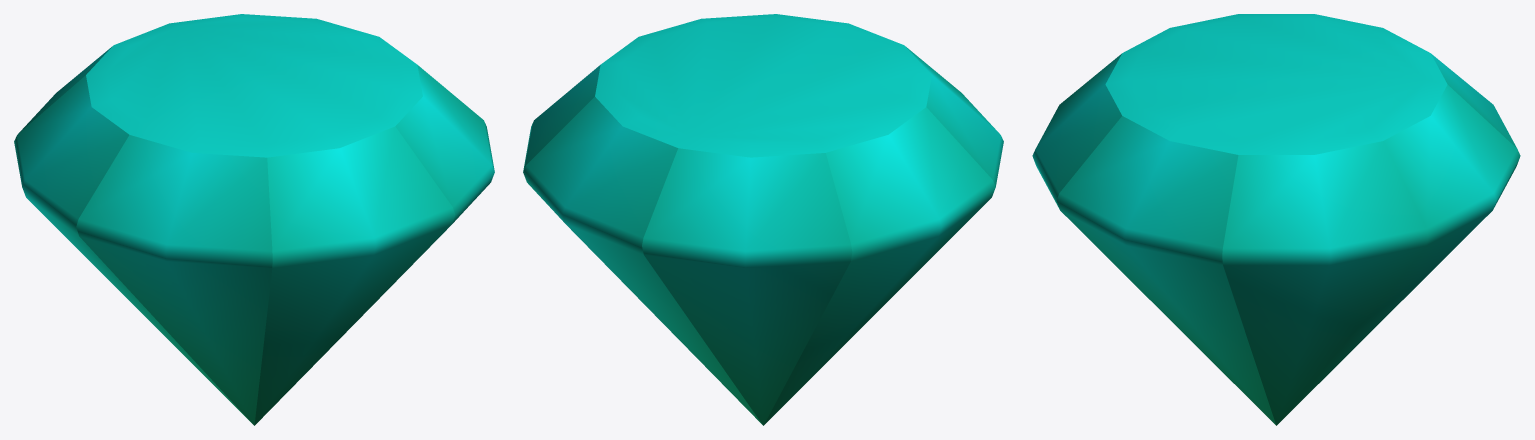
The model's file is Diamond_V1_0.fbx.
The picture shows the model from 3 angles, left to right: view 1: azimuth 30°, elevation 25°; view 2: azimuth 150°, elevation 25°; view 3: azimuth 270°, elevation 25°; orthographic projection.
Parts seen in each view (by area): view 1: Diamond_V1_0; view 2: Diamond_V1_0; view 3: Diamond_V1_0.
Part boxes in pixels (x1,y1,x2,y2): Diamond_V1_0: (14,14,494,425); Diamond_V1_0: (523,14,1003,425); Diamond_V1_0: (1032,14,1520,425).
Size of the model in its own units: 0.4202 by 0.337 by 0.431.
